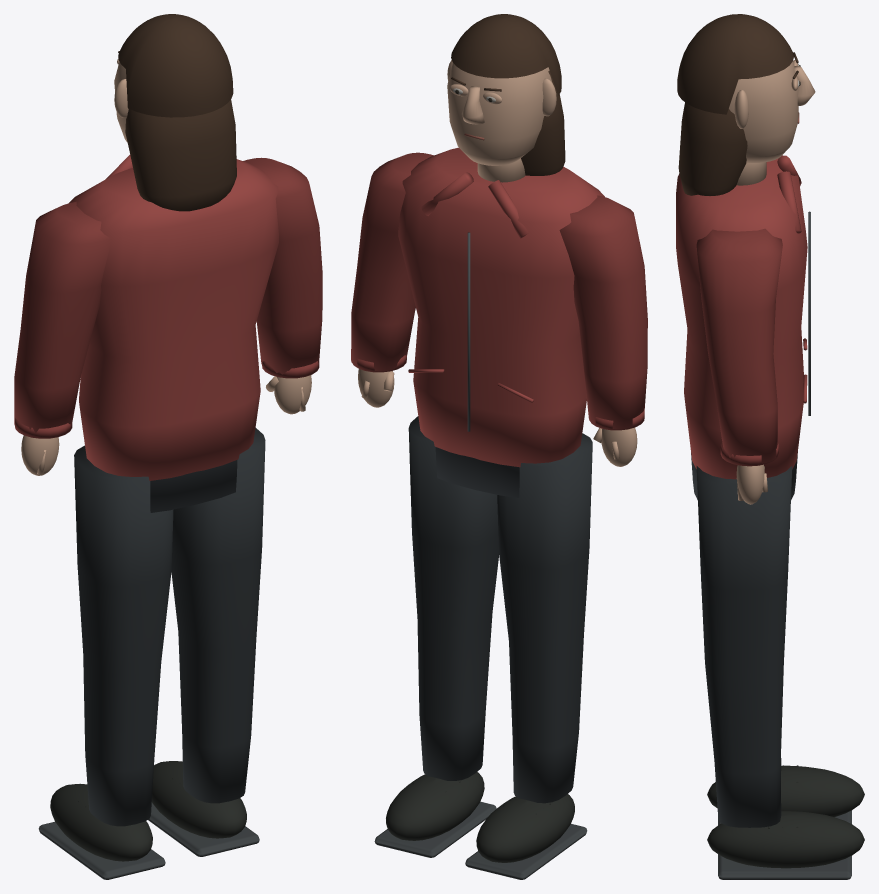
The model's file is pedestrian_2.glb.
The picture shows the model from 3 angles, left to right: view 1: azimuth 30°, elevation 25°; view 2: azimuth 150°, elevation 25°; view 3: azimuth 270°, elevation 25°; orthographic projection. The views are drawn at different scales.
Visible parts, largest first — view 1: Person_Coat fabric, leg_L_Detailed human vertex surfaces, leg_R_Detailed human vertex surfaces, head_Detailed human vertex surfaces, arm_L_Detailed human vertex surfaces, arm_R_Detailed human vertex surfaces, Person_Denim trousers; view 2: Person_Coat fabric, leg_L_Detailed human vertex surfaces, leg_R_Detailed human vertex surfaces, head_Detailed human vertex surfaces, arm_L_Detailed human vertex surfaces, arm_R_Detailed human vertex surfaces, Person_Denim trousers, Person_Chassis graphite; view 3: leg_R_Detailed human vertex surfaces, Person_Coat fabric, head_Detailed human vertex surfaces, arm_R_Detailed human vertex surfaces, leg_L_Detailed human vertex surfaces, Person_Chassis graphite.
Part boxes in pixels (x1,y1,x2,y2): Person_Coat fabric: (69,154,278,480); leg_L_Detailed human vertex surfaces: (38,445,173,879); leg_R_Detailed human vertex surfaces: (148,428,265,856); head_Detailed human vertex surfaces: (114,14,236,211); arm_L_Detailed human vertex surfaces: (14,201,111,475); arm_R_Detailed human vertex surfaces: (243,157,322,414); Person_Denim trousers: (150,460,237,512); Person_Coat fabric: (398,147,604,467); leg_L_Detailed human vertex surfaces: (465,433,592,879); leg_R_Detailed human vertex surfaces: (374,416,498,857); head_Detailed human vertex surfaces: (447,14,565,182); arm_L_Detailed human vertex surfaces: (559,195,647,466); arm_R_Detailed human vertex surfaces: (351,152,433,407); Person_Denim trousers: (435,447,519,497); Person_Chassis graphite: (467,232,470,431); leg_R_Detailed human vertex surfaces: (696,466,864,879); Person_Coat fabric: (676,155,807,479); head_Detailed human vertex surfaces: (677,14,815,195); arm_R_Detailed human vertex surfaces: (696,228,782,504); leg_L_Detailed human vertex surfaces: (707,758,864,825); Person_Chassis graphite: (808,211,810,415).
Size of the model in its own units: 0.6167 by 1.66 by 0.3446.
